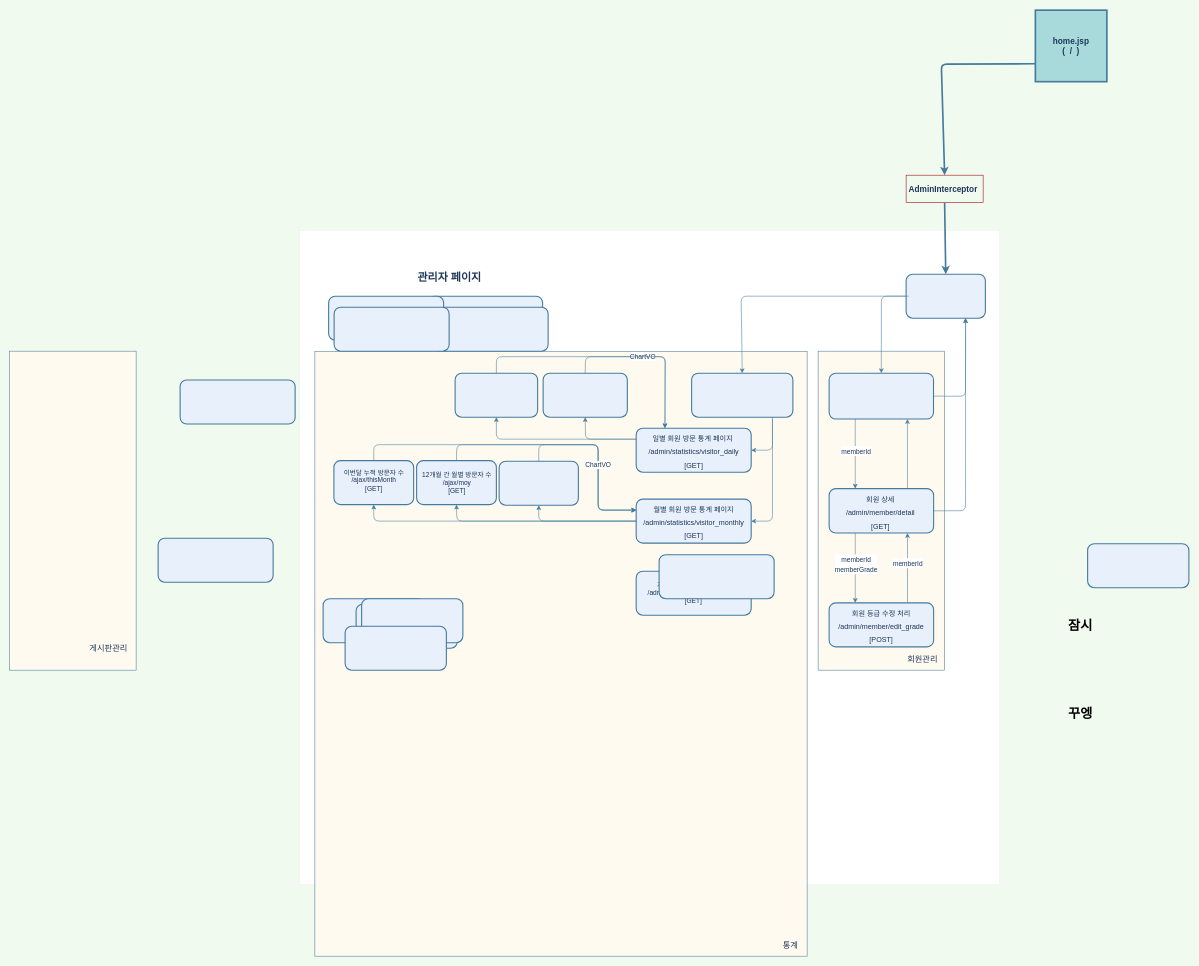
Image size: 1199x966. Some labels were removed from this diagram. The centre of each missing label's shape, as x and y in pixels:
6개월 간 월별 방문자 수 /ajax/monthly [GET]: point 538,482
관리자 메인 페이지 /admin/main [GET]: point 945,295
이번달 일별 방문자 수 /ajax/this_month_daily [GET]: point 496,394
최근 7일 일별 방문자 수 /ajax/visitor_daily [GET]: point 585,394
통계 메뉴 페이지 /admin/statistics/menu [GET]: point 742,394
회원 목록 /admin/member/list [GET]: point 881,395
